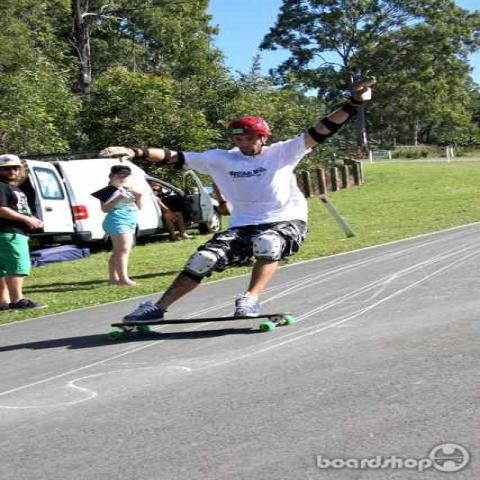truck: (28, 157, 221, 242)
